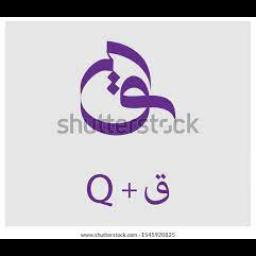q: (86, 166, 114, 208)
